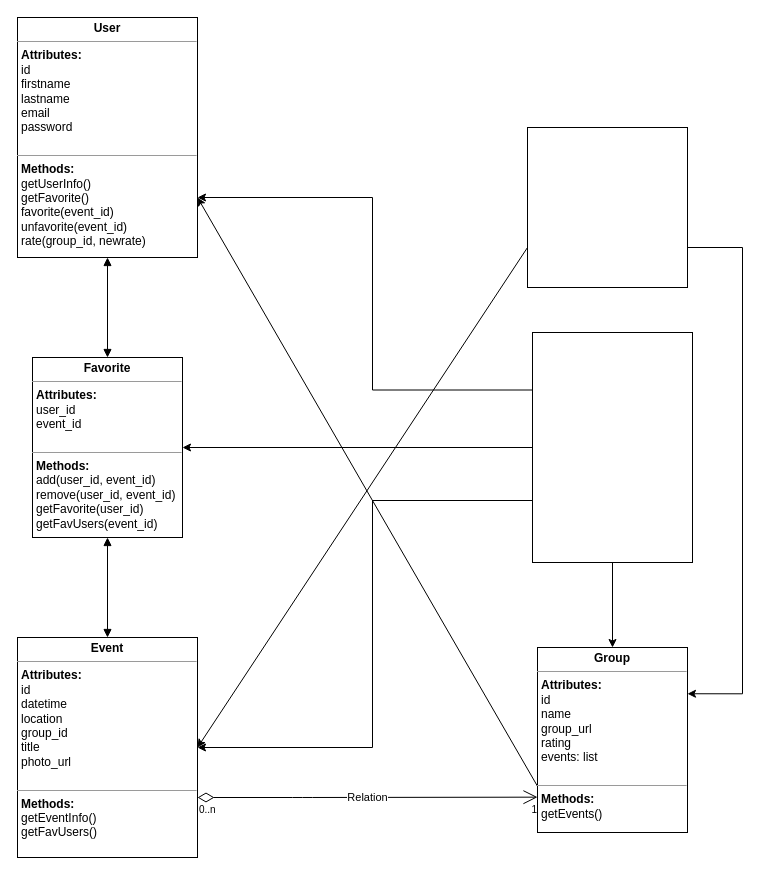
This 768x875 diagram has some shape labels left out. The centre of each missing label's shape, as x and y in pixels:
"API Manager Attributes: Methods: login(user_id) logout(user_id) get_all_events()" belongs at pixel 612 447.
"Scraper Attributes: Methods: get_groups() get_events() import_to_db()" belongs at pixel 607 207.
